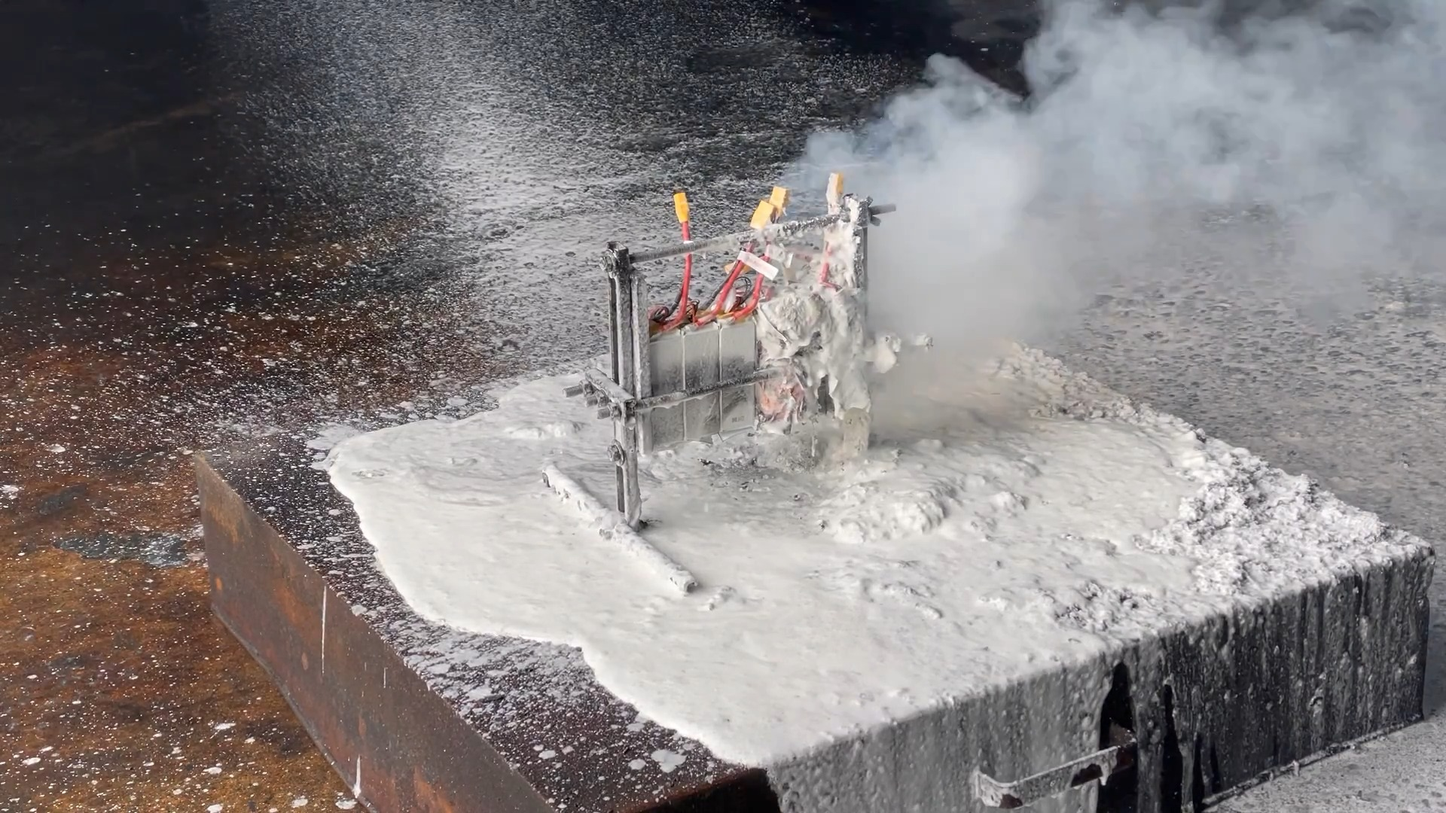smoke: (762, 0, 1445, 416)
